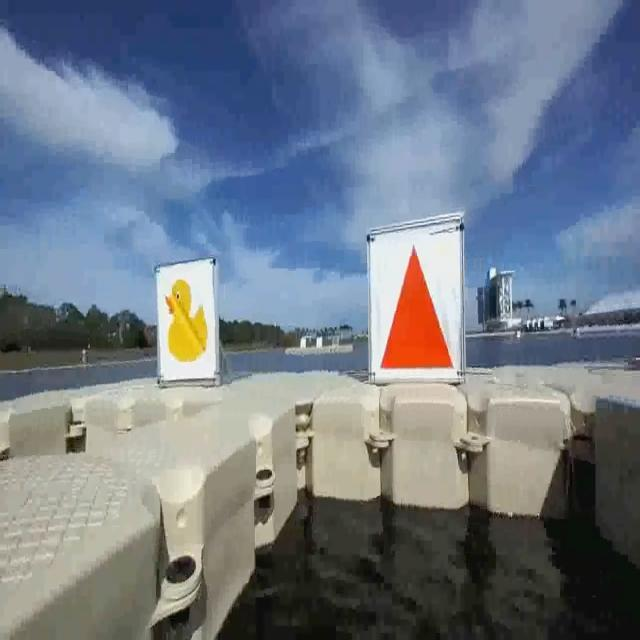red-dot: (370, 235, 465, 388)
yellow-duck: (162, 278, 208, 363)
